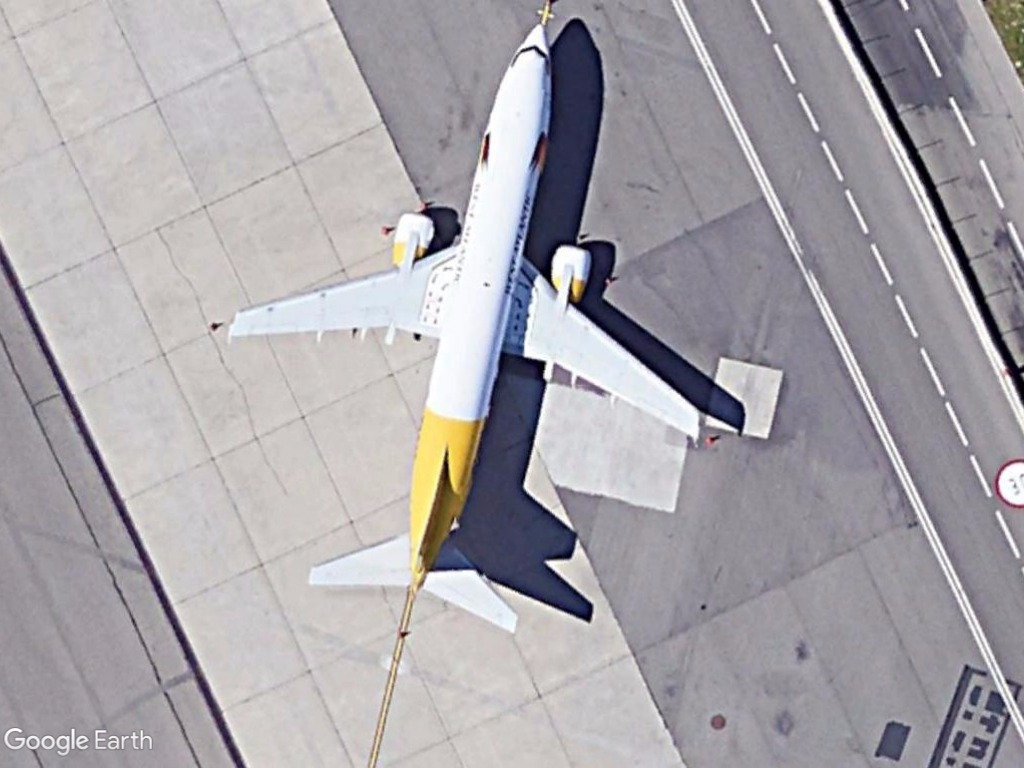airliner: (226, 18, 703, 639)
